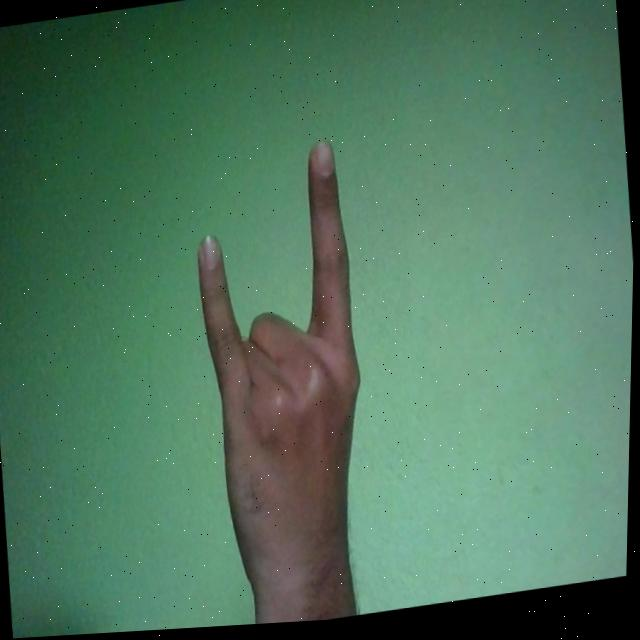Rock On: (184, 139, 386, 623)
